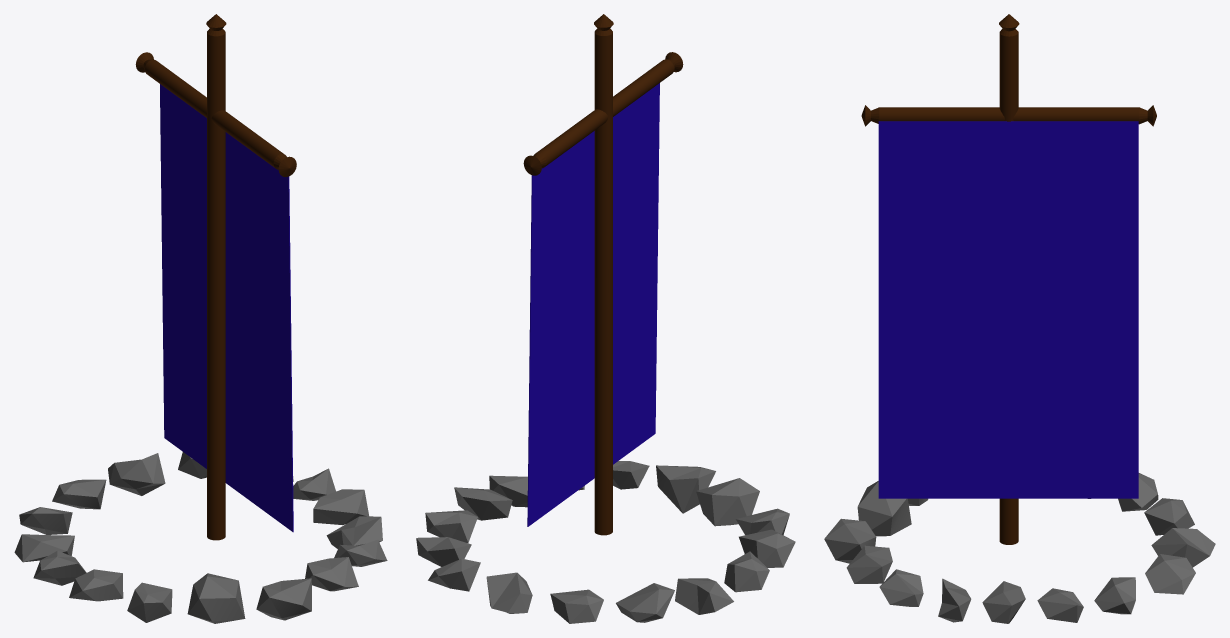
File: testflag.FBX
3 renders of one model, left to right at view 1: azimuth 30°, elevation 25°; view 2: azimuth 150°, elevation 25°; view 3: azimuth 270°, elevation 25°, orthographic.
Parts seen in each view (by area): view 1: Plane001, Cylinder001, Cylinder002, GeoSphere003, GeoSphere002, GeoSphere001, GeoSphere010, GeoSphere005, GeoSphere016, GeoSphere004, GeoSphere013, GeoSphere011 (+5 smaller); view 2: Plane001, Cylinder001, Cylinder002, GeoSphere003, GeoSphere002, GeoSphere011, GeoSphere001, GeoSphere012, GeoSphere005, GeoSphere010, GeoSphere013, GeoSphere006 (+6 smaller); view 3: Plane001, Cylinder002, Cylinder001, GeoSphere003, GeoSphere001, GeoSphere002, GeoSphere007, GeoSphere016, GeoSphere013, GeoSphere015, GeoSphere008, GeoSphere010 (+3 smaller).
Boxes of the visible parts, x1,y1,x2,y2 form: Plane001: (160,84,293,532); Cylinder001: (206,14,226,540); Cylinder002: (135,52,296,176); GeoSphere003: (187,573,245,623); GeoSphere002: (256,578,311,620); GeoSphere001: (108,453,165,495); GeoSphere010: (313,489,368,525); GeoSphere005: (69,569,123,601); GeoSphere016: (305,557,358,591); GeoSphere004: (127,582,172,622); GeoSphere013: (52,479,106,509); GeoSphere011: (14,534,74,562); Plane001: (527,83,659,526); Cylinder001: (594,14,613,535); Cylinder002: (523,52,683,175); GeoSphere003: (696,478,759,526); GeoSphere002: (656,465,715,513); GeoSphere011: (675,578,733,614); GeoSphere001: (486,572,532,613); GeoSphere012: (616,583,674,622); GeoSphere005: (739,529,795,567); GeoSphere010: (454,487,512,520); GeoSphere013: (550,589,603,623); GeoSphere006: (724,551,769,592); Plane001: (878,121,1138,498); Cylinder002: (861,105,1156,126); Cylinder001: (999,14,1019,544); GeoSphere003: (857,481,911,536); GeoSphere001: (1151,528,1215,567); GeoSphere002: (824,518,876,563); GeoSphere007: (1145,554,1195,594); GeoSphere016: (846,545,892,583); GeoSphere013: (1144,498,1194,535); GeoSphere015: (879,569,923,606); GeoSphere008: (1094,577,1135,614); GeoSphere010: (982,581,1025,623).
Size of the model in its own units: 24.31 by 39.83 by 25.45.
